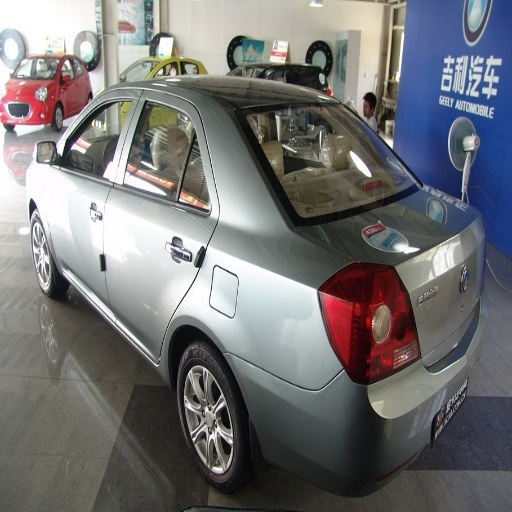back_bumper: (236, 323, 476, 502)
back_glass: (214, 95, 391, 216)
back_left_door: (104, 88, 218, 355)
front_left_door: (53, 92, 137, 294)
tailgate: (316, 186, 466, 272), (313, 123, 363, 187)
trunk: (372, 250, 470, 381)
